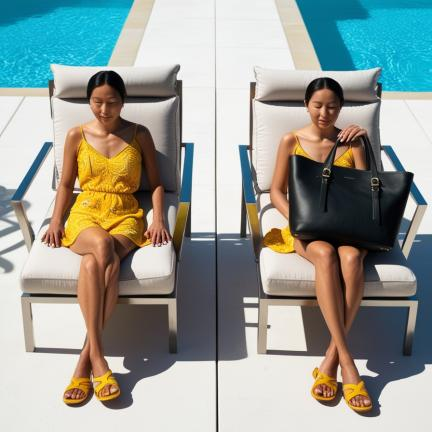guest on chair: (240, 67, 426, 411), (12, 64, 193, 405)
